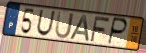5: (20, 8, 35, 35)
A: (68, 14, 91, 43)
F: (89, 15, 111, 43)
P: (106, 16, 128, 46)
U: (54, 10, 75, 40), (35, 9, 56, 37)
